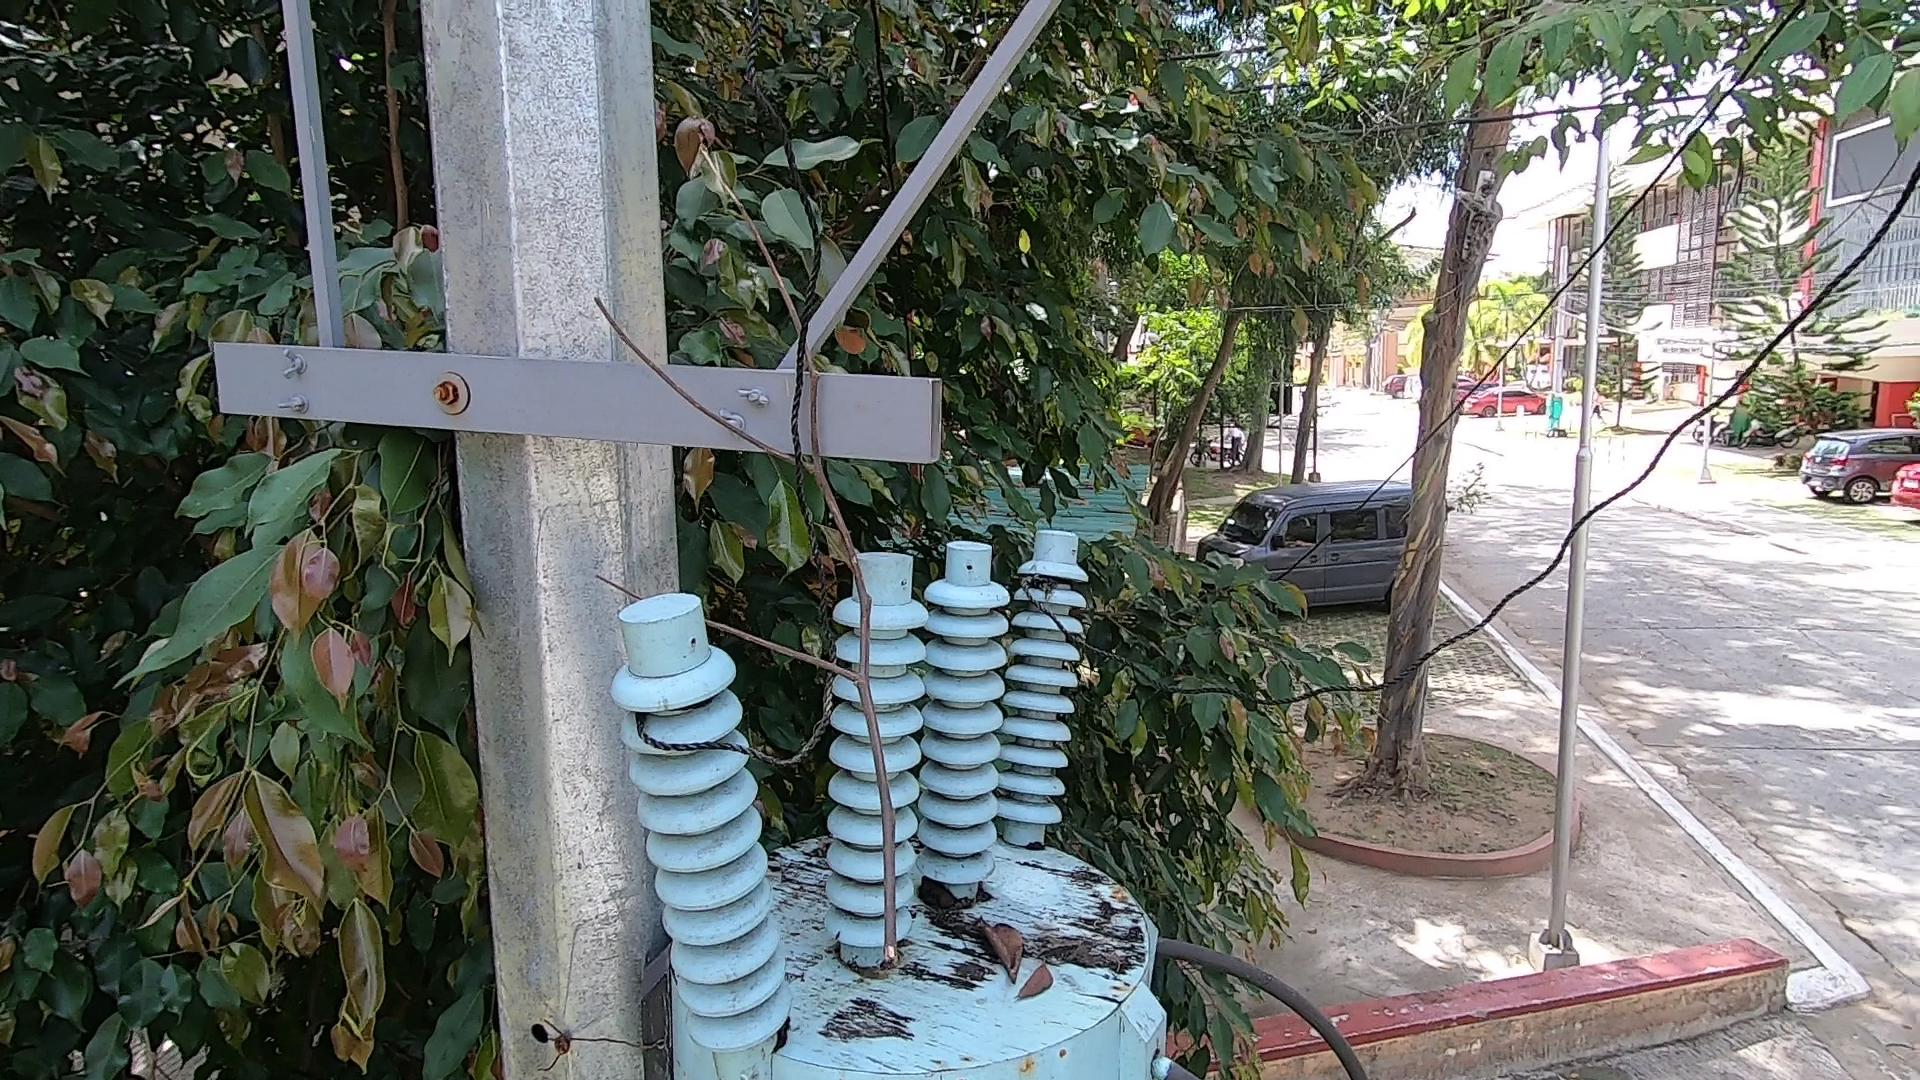leaf: (972, 907, 1025, 978), (916, 873, 971, 928), (1017, 963, 1063, 1011)
tree branch: (583, 127, 927, 963)
